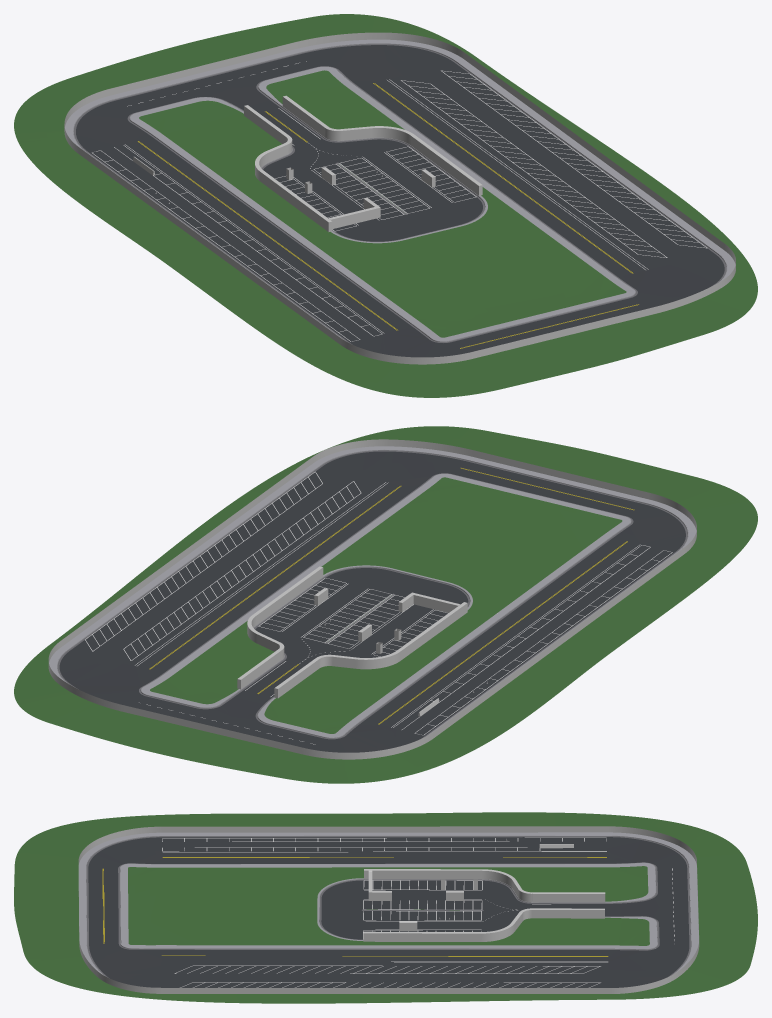
The model's file is lot_parking_lot_3.obj.
3 renders of one model, top to bottom at view 1: azimuth 30°, elevation 25°; view 2: azimuth 150°, elevation 25°; view 3: azimuth 270°, elevation 25°, orthographic. The views are drawn at different scales.
Visible parts, largest first — view 1: Parking_lot_3_Terrain_Ground_Layer0Node, Parking_lot_3_Roads_Road_Layer0Node, Parking_lot_3_Roads_Sidewalk_Layer0Node, Parking_lot_3_Roads_Marking_Layer0Node, Parking_lot_3_Roads_Gutter_Layer0Node, Parking_lot_3_Roads_Curb_Layer0Node, Parking_lot_3_Prop_MarkingNode, Parking_lot_3_Prop_Marking_1Node, Parking_lot_3_Prop_Marking_5Node, Parking_lot_3_Prop_Marking_2Node, Parking_lot_3_Prop_Marking_7Node, Parking_lot_3_Prop_Prop_7Node (+4 smaller); view 2: Parking_lot_3_Terrain_Ground_Layer0Node, Parking_lot_3_Roads_Road_Layer0Node, Parking_lot_3_Roads_Sidewalk_Layer0Node, Parking_lot_3_Roads_Marking_Layer0Node, Parking_lot_3_Roads_Gutter_Layer0Node, Parking_lot_3_Roads_Curb_Layer0Node, Parking_lot_3_Prop_Marking_1Node, Parking_lot_3_Prop_MarkingNode, Parking_lot_3_Prop_Marking_5Node, Parking_lot_3_Prop_Marking_2Node, Parking_lot_3_Prop_Marking_4Node, Parking_lot_3_Prop_Marking_6Node (+6 smaller); view 3: Parking_lot_3_Terrain_Ground_Layer0Node, Parking_lot_3_Roads_Road_Layer0Node, Parking_lot_3_Roads_Sidewalk_Layer0Node, Parking_lot_3_Roads_Marking_Layer0Node, Parking_lot_3_Roads_Curb_Layer0Node, Parking_lot_3_Roads_Gutter_Layer0Node, Parking_lot_3_Prop_MarkingNode, Parking_lot_3_Prop_Marking_1Node, Parking_lot_3_Prop_Prop_4Node, Parking_lot_3_Prop_Prop_8Node, Parking_lot_3_Prop_Prop_5Node, Parking_lot_3_Prop_Prop_6Node (+6 smaller).
Boxes of the visible parts, bbox=[...] form: Parking_lot_3_Terrain_Ground_Layer0Node: bbox=[14, 14, 757, 397]; Parking_lot_3_Roads_Road_Layer0Node: bbox=[76, 45, 724, 357]; Parking_lot_3_Roads_Sidewalk_Layer0Node: bbox=[65, 39, 735, 341]; Parking_lot_3_Roads_Marking_Layer0Node: bbox=[92, 61, 707, 348]; Parking_lot_3_Roads_Gutter_Layer0Node: bbox=[74, 44, 726, 344]; Parking_lot_3_Roads_Curb_Layer0Node: bbox=[73, 43, 727, 342]; Parking_lot_3_Prop_MarkingNode: bbox=[80, 148, 339, 343]; Parking_lot_3_Prop_Marking_1Node: bbox=[465, 53, 724, 250]; Parking_lot_3_Prop_Marking_5Node: bbox=[112, 43, 292, 94]; Parking_lot_3_Prop_Marking_2Node: bbox=[474, 307, 653, 358]; Parking_lot_3_Prop_Marking_7Node: bbox=[292, 32, 464, 59]; Parking_lot_3_Prop_Prop_7Node: bbox=[325, 126, 413, 145]; Parking_lot_3_Terrain_Ground_Layer0Node: bbox=[14, 426, 757, 783]; Parking_lot_3_Roads_Road_Layer0Node: bbox=[59, 451, 685, 752]; Parking_lot_3_Roads_Sidewalk_Layer0Node: bbox=[49, 446, 696, 737]; Parking_lot_3_Roads_Marking_Layer0Node: bbox=[85, 468, 672, 744]; Parking_lot_3_Roads_Gutter_Layer0Node: bbox=[57, 450, 687, 739]; Parking_lot_3_Roads_Curb_Layer0Node: bbox=[57, 449, 688, 738]; Parking_lot_3_Prop_Marking_1Node: bbox=[61, 457, 312, 646]; Parking_lot_3_Prop_MarkingNode: bbox=[434, 548, 683, 737]; Parking_lot_3_Prop_Marking_5Node: bbox=[125, 705, 301, 754]; Parking_lot_3_Prop_Marking_2Node: bbox=[474, 450, 648, 498]; Parking_lot_3_Prop_Marking_4Node: bbox=[313, 439, 474, 463]; Parking_lot_3_Prop_Marking_6Node: bbox=[302, 731, 434, 759]; Parking_lot_3_Terrain_Ground_Layer0Node: bbox=[14, 812, 757, 1003]; Parking_lot_3_Roads_Road_Layer0Node: bbox=[88, 837, 689, 987]; Parking_lot_3_Roads_Sidewalk_Layer0Node: bbox=[78, 832, 698, 975]; Parking_lot_3_Roads_Marking_Layer0Node: bbox=[102, 837, 674, 987]; Parking_lot_3_Roads_Curb_Layer0Node: bbox=[86, 835, 691, 975]; Parking_lot_3_Roads_Gutter_Layer0Node: bbox=[86, 836, 690, 978]; Parking_lot_3_Prop_MarkingNode: bbox=[162, 826, 606, 832]; Parking_lot_3_Prop_Marking_1Node: bbox=[161, 988, 607, 993]; Parking_lot_3_Prop_Prop_4Node: bbox=[364, 869, 482, 879]; Parking_lot_3_Prop_Prop_8Node: bbox=[363, 931, 481, 941]; Parking_lot_3_Prop_Prop_5Node: bbox=[532, 892, 605, 902]; Parking_lot_3_Prop_Prop_6Node: bbox=[532, 908, 604, 918].
Size of the model in its own units: 122 by 2.96 by 200.
